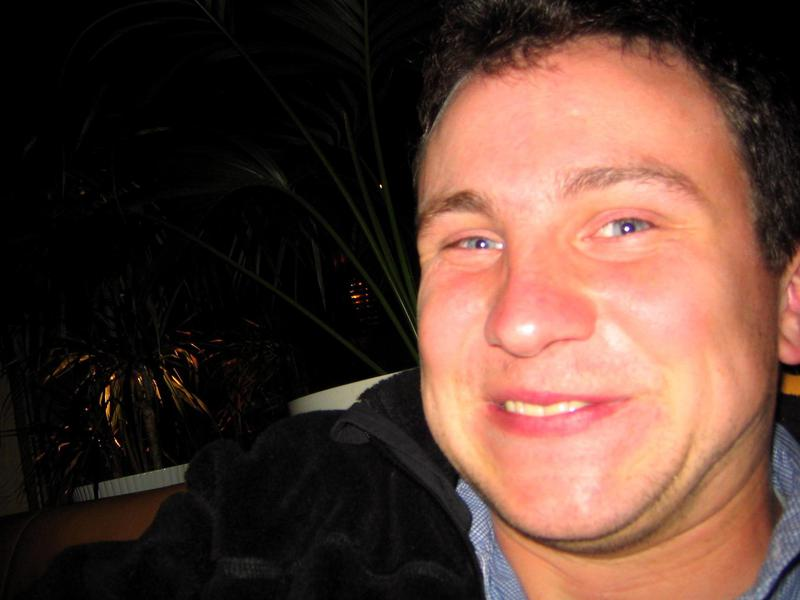person: (147, 6, 799, 600)
